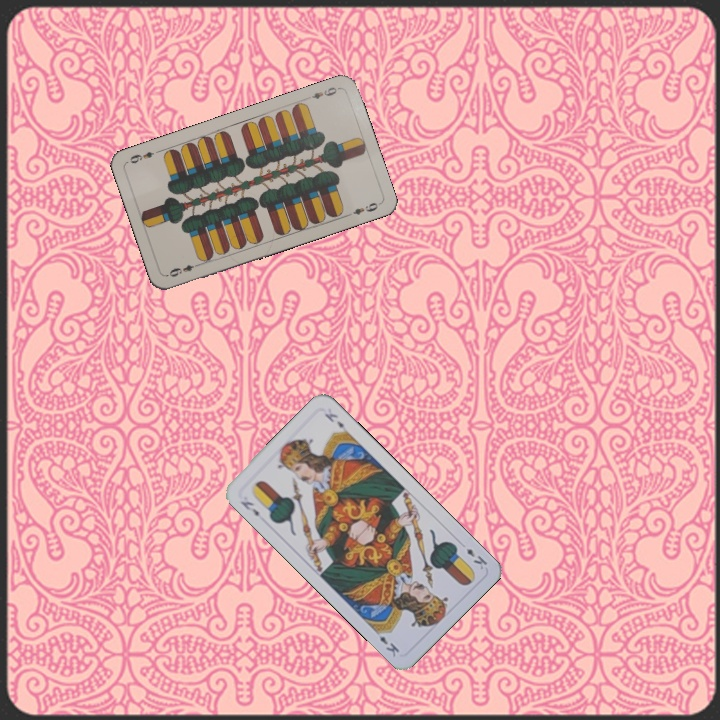E9: (164, 259, 203, 280), (302, 83, 342, 102)
EK: (462, 544, 490, 572), (236, 497, 262, 519)
